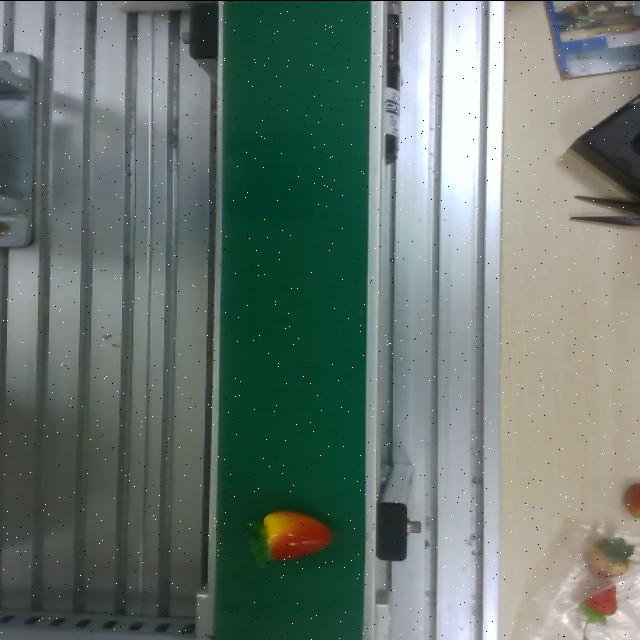Small Unripe Strawberry: (254, 508, 334, 564)
conveyor: (202, 0, 388, 640)
